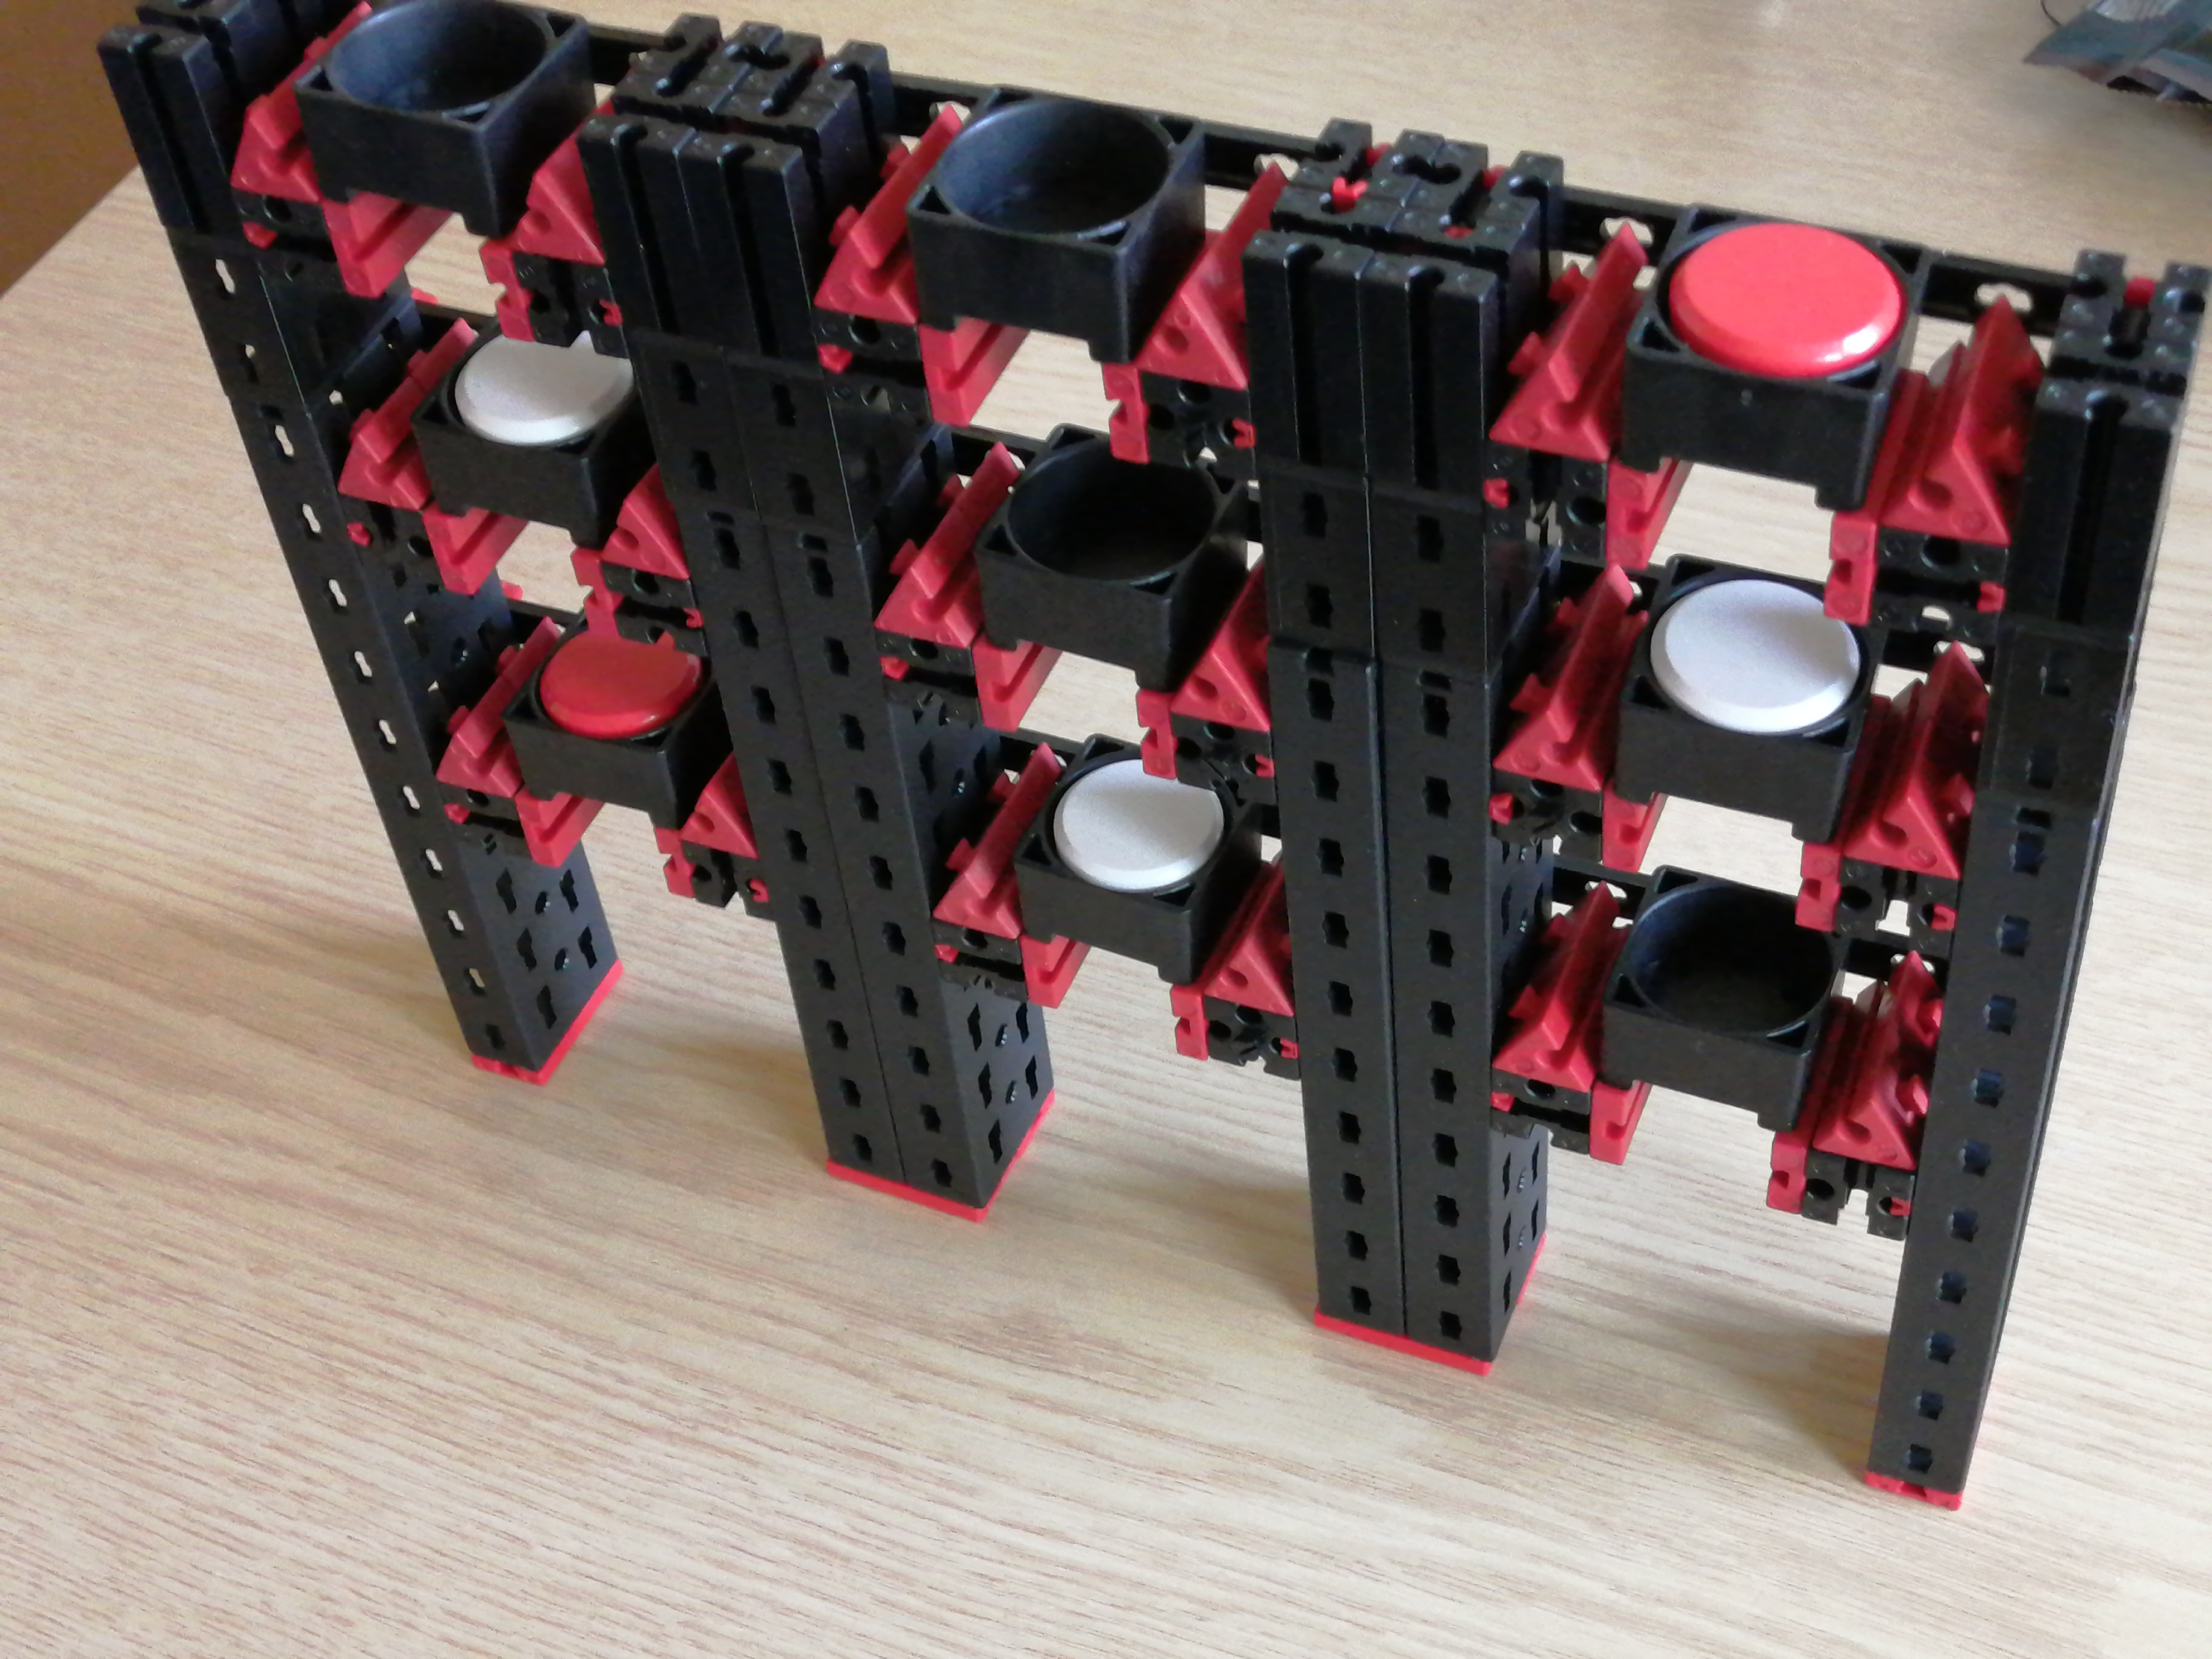Behaelter: (1642, 209, 1904, 507), (932, 96, 1158, 349), (1597, 620, 1867, 816), (329, 10, 528, 218), (1001, 471, 1193, 674), (1588, 943, 1817, 1108), (427, 352, 618, 528), (524, 648, 702, 821), (1026, 789, 1217, 945)
WerkStueck: (1674, 225, 1893, 380), (1658, 580, 1829, 730), (1061, 784, 1228, 889), (540, 640, 702, 734), (460, 345, 627, 436)
